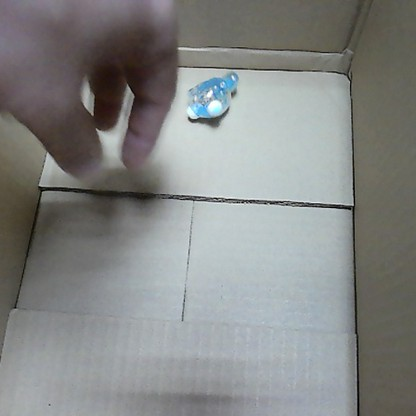bluefish: (181, 67, 239, 123)
